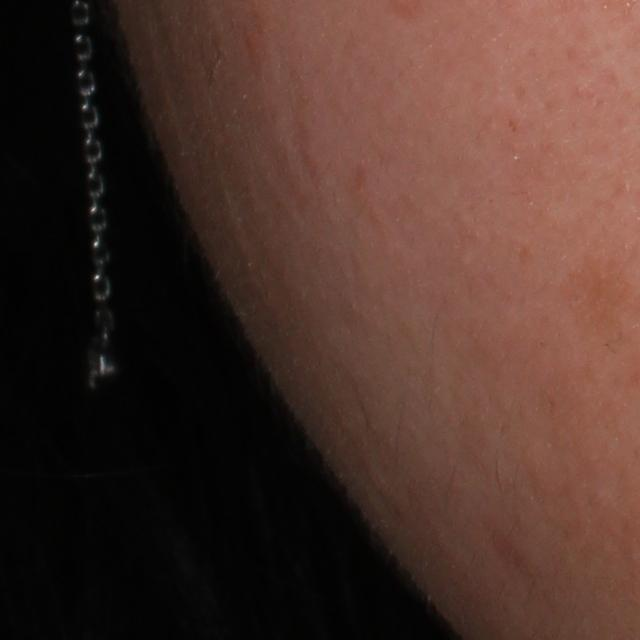melasma: (552, 251, 634, 349)
